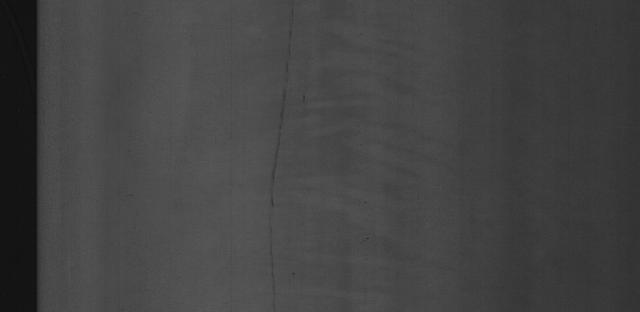inclusion: (259, 7, 302, 298)
